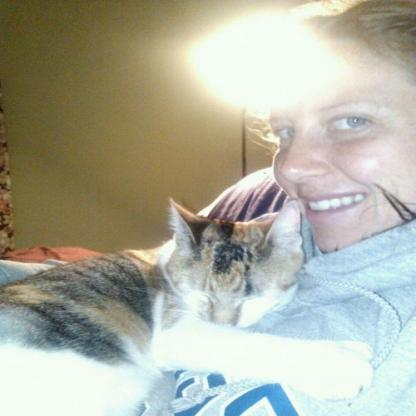Target: (0, 189, 373, 416)
